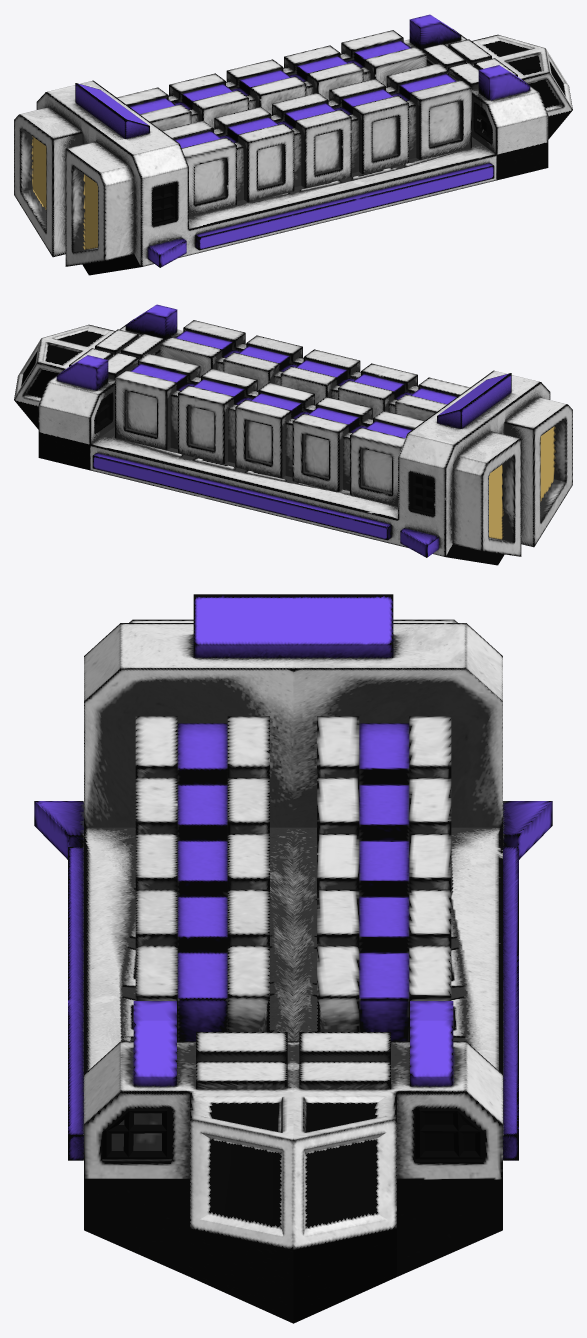
The model's file is AllyShip.fbx.
The picture shows the model from 3 angles, top to bottom: view 1: azimuth 30°, elevation 25°; view 2: azimuth 150°, elevation 25°; view 3: azimuth 270°, elevation 25°; orthographic projection. The views are drawn at different scales.
Visible parts, largest first — view 1: AllyShip; view 2: AllyShip; view 3: AllyShip.
Part boxes in pixels (x1,y1,x2,y2): AllyShip: (14,14,572,275); AllyShip: (14,304,572,565); AllyShip: (34,594,552,1323).
Size of the model in its own units: 967 by 311 by 425.
1 material, 1 textured.
